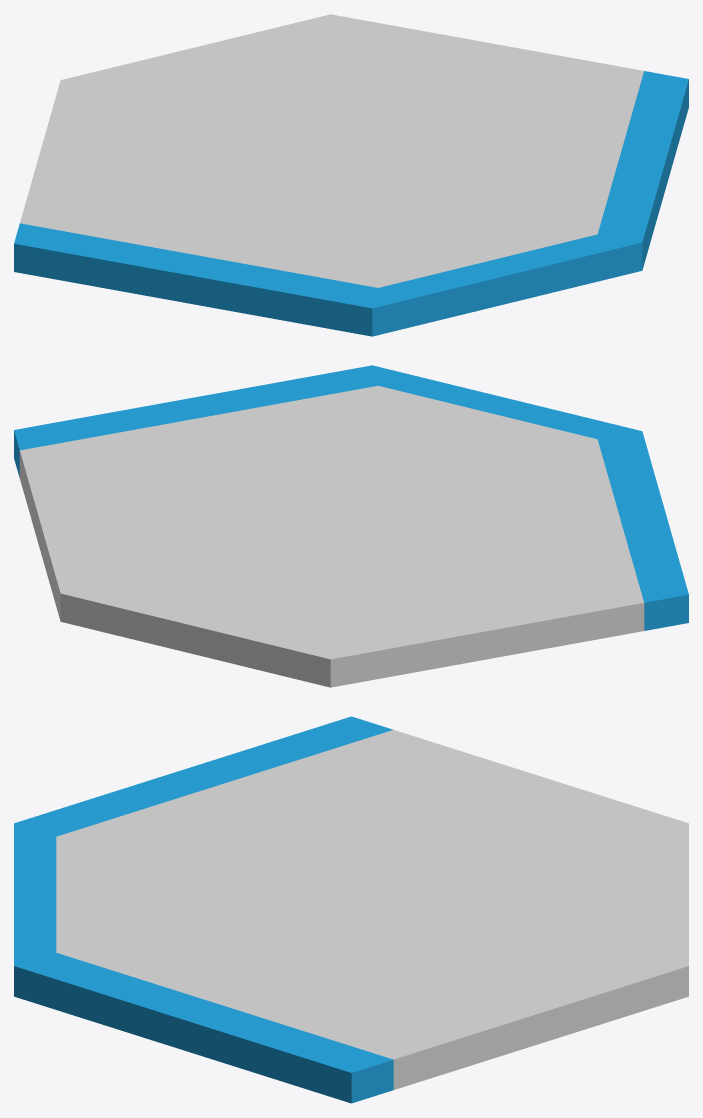
3 views of the same model, one above another, from view 1: azimuth 30°, elevation 25°; view 2: azimuth 150°, elevation 25°; view 3: azimuth 270°, elevation 25° (orthographic). The views are drawn at different scales.
Parts seen in each view (by area): view 1: Hexagon, SW, Sx, SE; view 2: Hexagon, SW, SE, Sx; view 3: Hexagon, SE, SW, Sx.
Part boxes in pixels (bbox=[...]): Hexagon: bbox=[20, 14, 643, 287]; SW: bbox=[14, 223, 377, 336]; Sx: bbox=[372, 234, 642, 336]; SE: bbox=[598, 71, 688, 269]; Hexagon: bbox=[19, 386, 644, 687]; SW: bbox=[597, 431, 688, 630]; SE: bbox=[14, 365, 377, 477]; Sx: bbox=[372, 365, 641, 439]; Hexagon: bbox=[56, 730, 688, 1089]; SE: bbox=[14, 952, 393, 1103]; SW: bbox=[14, 716, 393, 836]; Sx: bbox=[14, 823, 56, 965].
Size of the model in its own units: 5 by 4 by 0.2.
